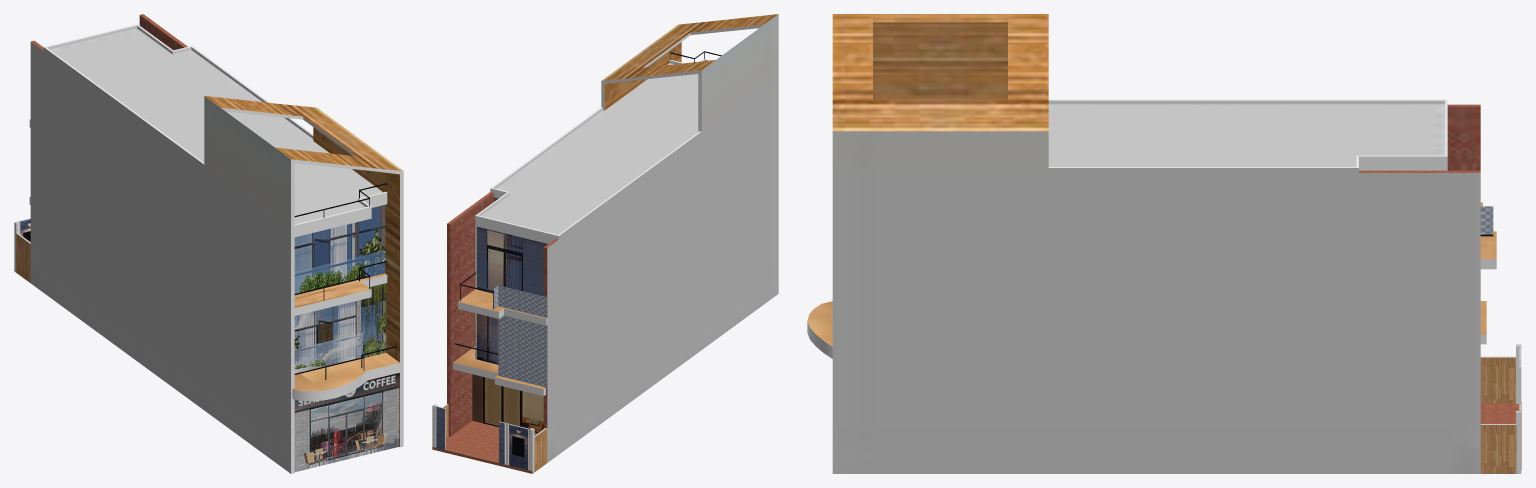
3 renders of one model, left to right at view 1: azimuth 30°, elevation 25°; view 2: azimuth 150°, elevation 25°; view 3: azimuth 270°, elevation 25°, orthographic. The views are drawn at different scales.
Visible parts, largest first — view 1: 6017beaeaf31170e56ed0481; view 2: 6017beaeaf31170e56ed0481; view 3: 6017beaeaf31170e56ed0481.
Part boxes in pixels (x1,y1,x2,y2): 6017beaeaf31170e56ed0481: (14,14,403,473); 6017beaeaf31170e56ed0481: (432,14,778,473); 6017beaeaf31170e56ed0481: (807,14,1521,473).
Bounding box in the file's own units: 6 × 16.01 × 26.44.
1 material, 1 textured.
